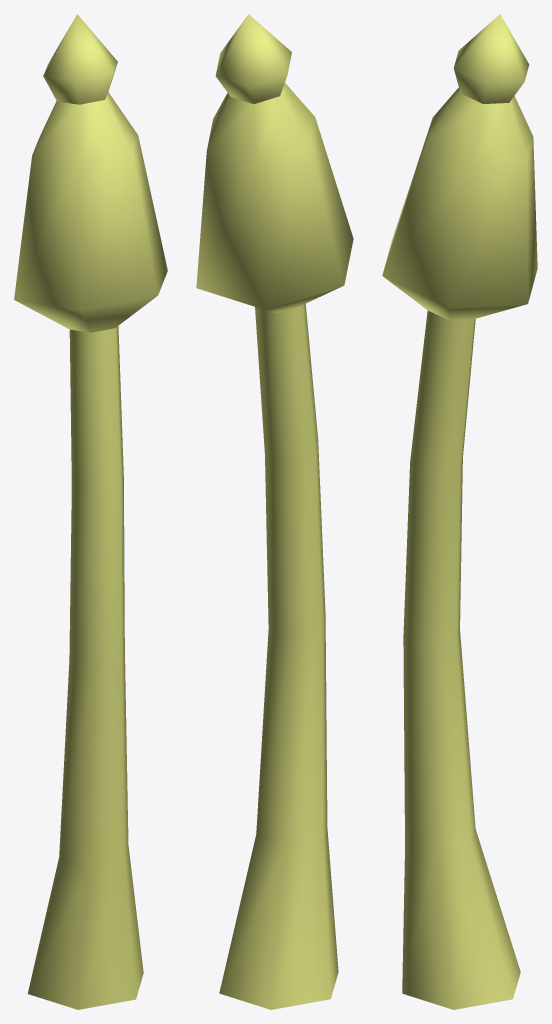
The model's file is n4_fabulous_mushroom_001_lev4.glb.
3 views of the same model, side by side, from view 1: azimuth 30°, elevation 25°; view 2: azimuth 150°, elevation 25°; view 3: azimuth 270°, elevation 25° (orthographic). The views are drawn at different scales.
Parts seen in each view (by area): view 1: n4_fabulous_mushroom_001_lev4; view 2: n4_fabulous_mushroom_001_lev4; view 3: n4_fabulous_mushroom_001_lev4.
Part boxes in pixels (<box>): n4_fabulous_mushroom_001_lev4: <box>14,14,167,1009</box>; n4_fabulous_mushroom_001_lev4: <box>196,14,353,1009</box>; n4_fabulous_mushroom_001_lev4: <box>382,14,537,1009</box>.
Bounding box in the file's own units: 0.6451 × 4.07 × 0.5885.
1 material, 1 textured.
